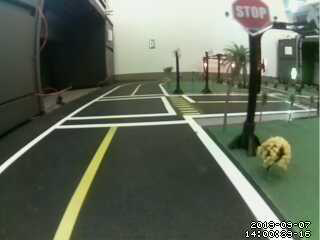Stop_Sign: (229, 1, 278, 34)
